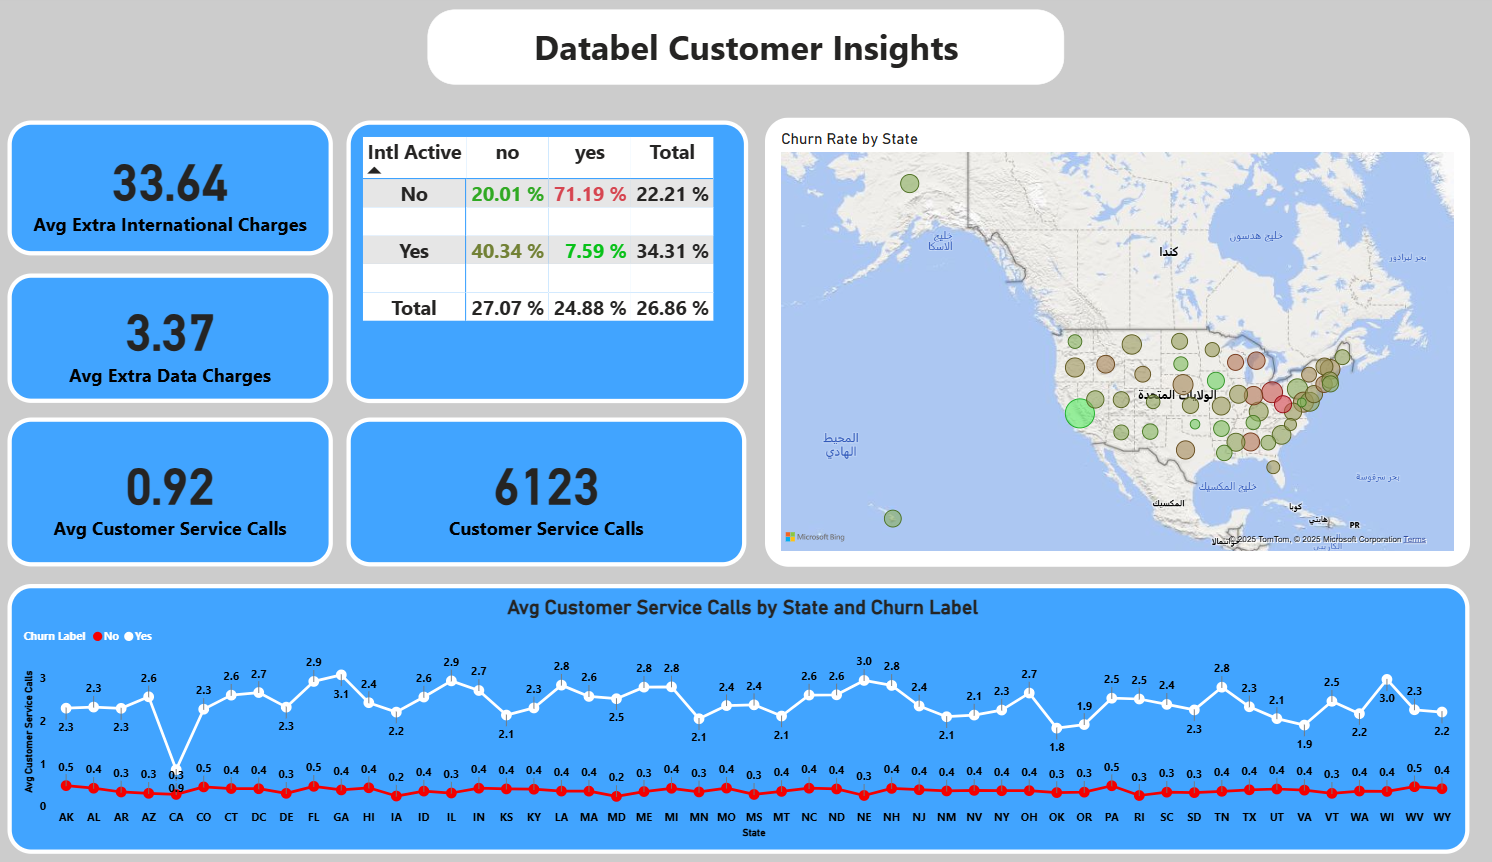

The page's visual inventory and layout, read from the dashboard file:
{"tool":"powerbi","page":{"name":"Insights","canvas":[1640,960],"ordinal":5},"visuals":[{"type":"card","fields":{"Values":["Sum(Databel - Data.Customer Service Calls)"]},"box":[382.2,463.7,436.5,163],"z":0},{"type":"card","fields":{"Values":["Databel - Data.Avg Customer Service Calls"]},"box":[11.6,463.7,355,163],"z":1000},{"type":"card","fields":{"Values":["Databel - Data.Avg Extra International Charges"]},"box":[11.6,139.7,355,147.4],"z":2000},{"type":"card","fields":{"Values":["Databel - Data.Avg Extra Data Charges"]},"box":[11.6,306.5,355,141.6],"z":3000},{"type":"lineChart","fields":{"Category":["Databel - Data.State"],"Y":["Databel - Data.Avg Customer Service Calls"],"Series":["Databel - Data.Churn Label"]},"box":[11.6,646,1596.7,294.9],"z":4000},{"type":"map","fields":{"Category":["Databel - Data.State"],"Size":["Databel - Data.Churn Rate"]},"box":[838.1,135.8,770.2,490.8],"z":5000},{"type":"pivotTable","fields":{"Rows":["Databel - Data.Intl Active"],"Values":["Databel - Data.Churn Rate"],"Columns":["Databel - Data.Intl Plan"]},"box":[382.2,139.7,438.5,308.5],"z":6000},{"type":"textbox","box":[470,18.3,695,81.7],"z":7000}]}

Visuals, with their boxes in screenshot pixels (x1, y1, x2, y2), scaled from the page's 1640x960 canvas onto the 1492x862 screenshot:
card - Sum(Databel - Data.Customer Service Calls): bbox=[348, 416, 745, 563]
card - Databel - Data.Avg Customer Service Calls: bbox=[11, 416, 334, 563]
card - Databel - Data.Avg Extra International Charges: bbox=[11, 125, 334, 258]
card - Databel - Data.Avg Extra Data Charges: bbox=[11, 275, 334, 402]
lineChart - Databel - Data.State x Databel - Data.Avg Customer Service Calls: bbox=[11, 580, 1463, 845]
map - Databel - Data.State x Databel - Data.Churn Rate: bbox=[762, 122, 1463, 563]
pivotTable - Databel - Data.Intl Active x Databel - Data.Churn Rate: bbox=[348, 125, 747, 402]
textbox: bbox=[428, 16, 1060, 90]
